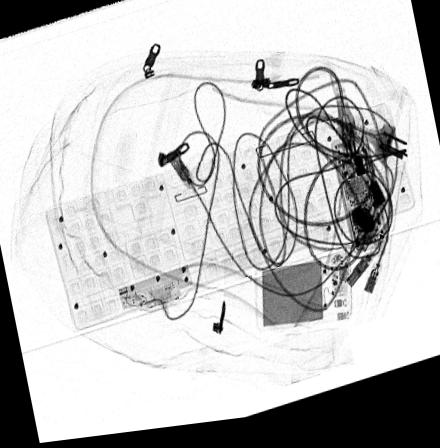Powerbank: (255, 258, 352, 341)
